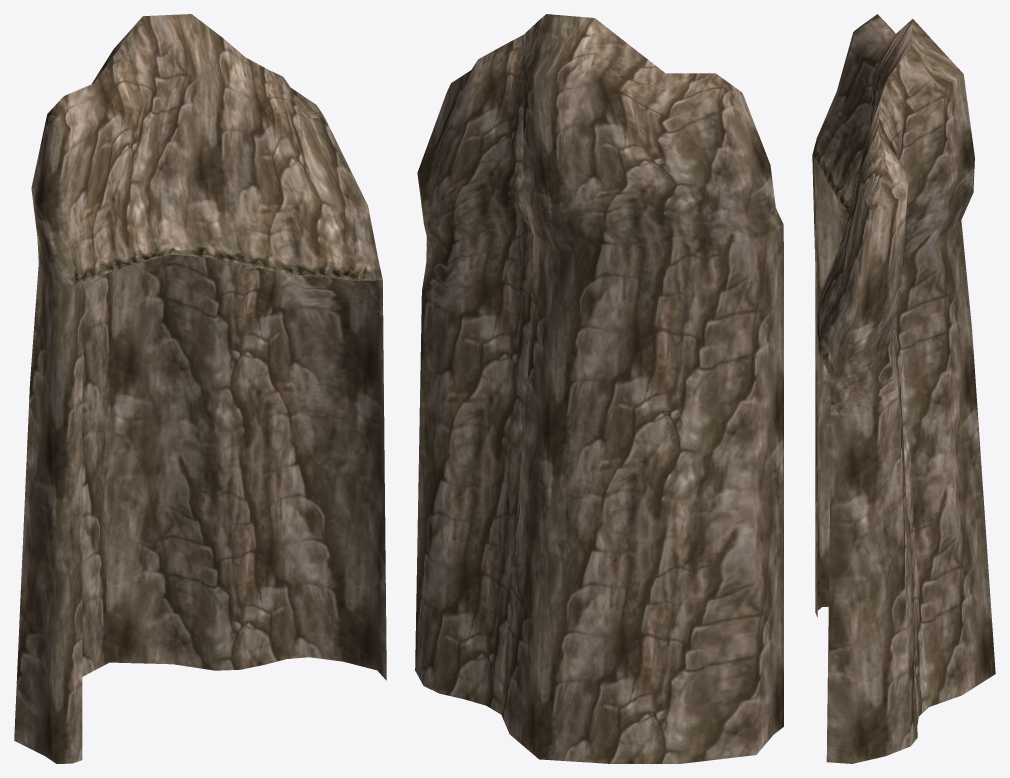
File: OVERHILL_A_01_LINE83.fbx
3 renders of one model, left to right at view 1: azimuth 30°, elevation 25°; view 2: azimuth 150°, elevation 25°; view 3: azimuth 270°, elevation 25°, orthographic. The views are drawn at different scales.
Parts seen in each view (by area): view 1: OVERHILL_A_01_LINE83; view 2: OVERHILL_A_01_LINE83; view 3: OVERHILL_A_01_LINE83.
Boxes of the visible parts, box(x1,y1,x2,y2) form: OVERHILL_A_01_LINE83: box(14, 14, 386, 763); OVERHILL_A_01_LINE83: box(415, 14, 783, 763); OVERHILL_A_01_LINE83: box(812, 14, 995, 763).
Size of the model in its own units: 199743 by 377159 by 96302.
2 materials, 2 textured.
